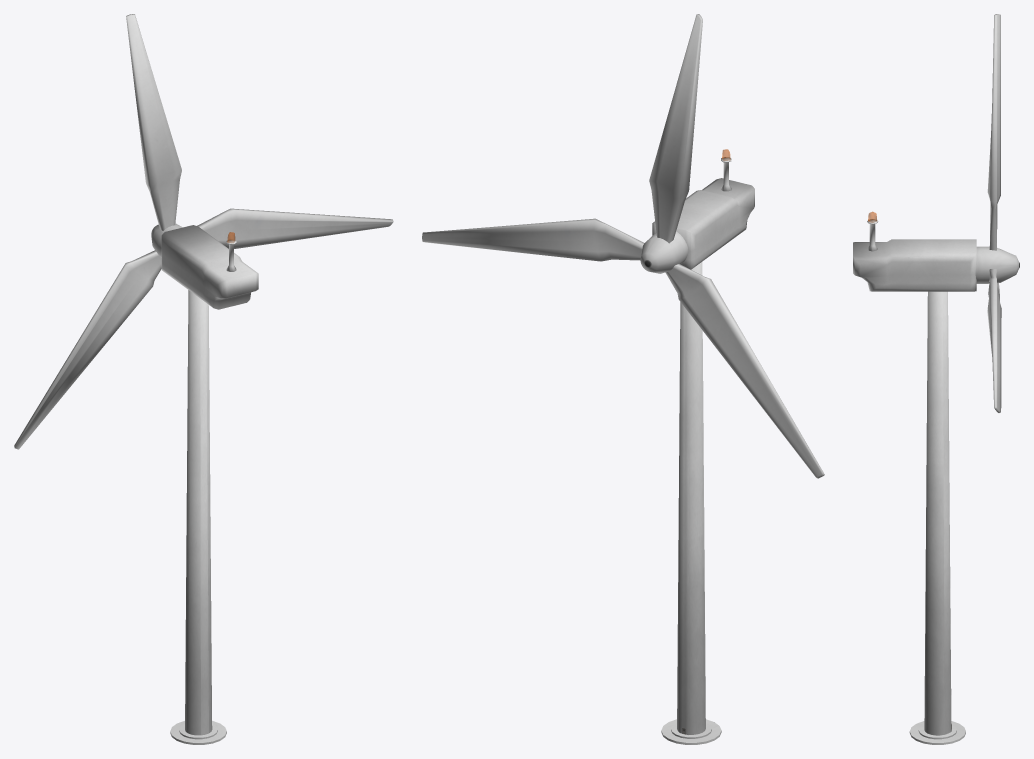
The model's file is WindTurbine.glb.
3 views of the same model, side by side, from view 1: azimuth 30°, elevation 25°; view 2: azimuth 150°, elevation 25°; view 3: azimuth 270°, elevation 25° (orthographic). The views are drawn at different scales.
Visible parts, largest first — view 1: WindTurbine.002, WindTurbine_Blades.001; view 2: WindTurbine_Blades.001, WindTurbine.002; view 3: WindTurbine.002, WindTurbine_Blades.001.
Boxes of the visible parts, x1,y1,x2,y2 form: WindTurbine.002: (161, 225, 258, 744); WindTurbine_Blades.001: (14, 14, 393, 449); WindTurbine_Blades.001: (422, 14, 824, 478); WindTurbine.002: (652, 149, 754, 744); WindTurbine.002: (853, 211, 976, 744); WindTurbine_Blades.001: (975, 14, 1019, 412).
Size of the model in its own units: 3.44 by 6.14 by 1.32.
Materials: 1 (1 with a texture image).
